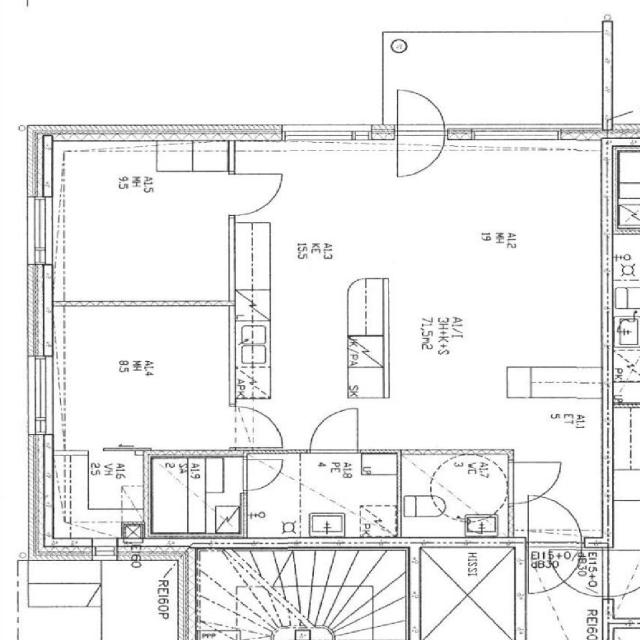door: (393, 85, 448, 142), (305, 403, 362, 455), (525, 495, 582, 540), (232, 401, 284, 450), (510, 460, 565, 506), (233, 171, 285, 216), (394, 136, 445, 181), (240, 454, 286, 495)
window: (452, 118, 567, 149), (25, 354, 59, 438), (279, 120, 375, 148), (25, 193, 57, 270)
zone: (43, 145, 238, 307), (46, 304, 235, 452), (195, 548, 413, 634), (240, 453, 402, 541), (412, 542, 522, 639), (398, 450, 513, 538), (48, 450, 147, 539), (147, 455, 244, 537), (522, 556, 606, 636), (100, 564, 182, 640), (614, 147, 640, 227), (611, 297, 640, 349), (611, 500, 640, 550), (296, 627, 332, 640), (609, 627, 640, 640)
